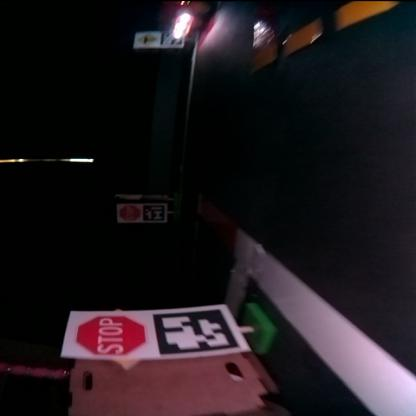Duckiebot: (167, 4, 209, 32)
Intersection sign: (134, 32, 158, 46)
QR code: (152, 308, 238, 357), (160, 32, 182, 46), (145, 205, 164, 221)
Stop sign: (76, 314, 144, 358), (118, 205, 140, 221)
